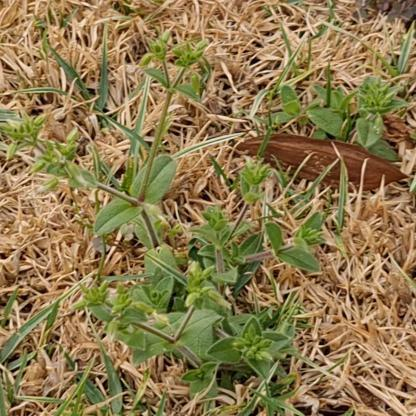Weeds: (4, 27, 325, 415), (266, 76, 414, 166)
